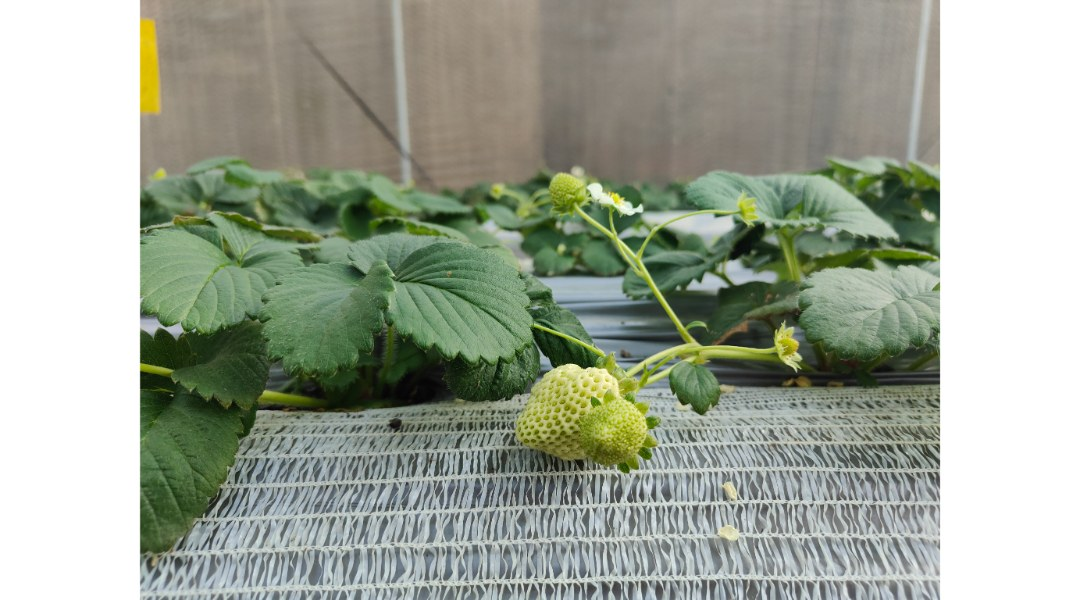berry: (510, 367, 622, 472), (581, 384, 652, 480), (524, 165, 578, 225)
flower: (576, 174, 659, 219), (764, 314, 804, 386), (726, 184, 764, 246)
strain: (640, 205, 723, 254), (647, 272, 683, 336)
